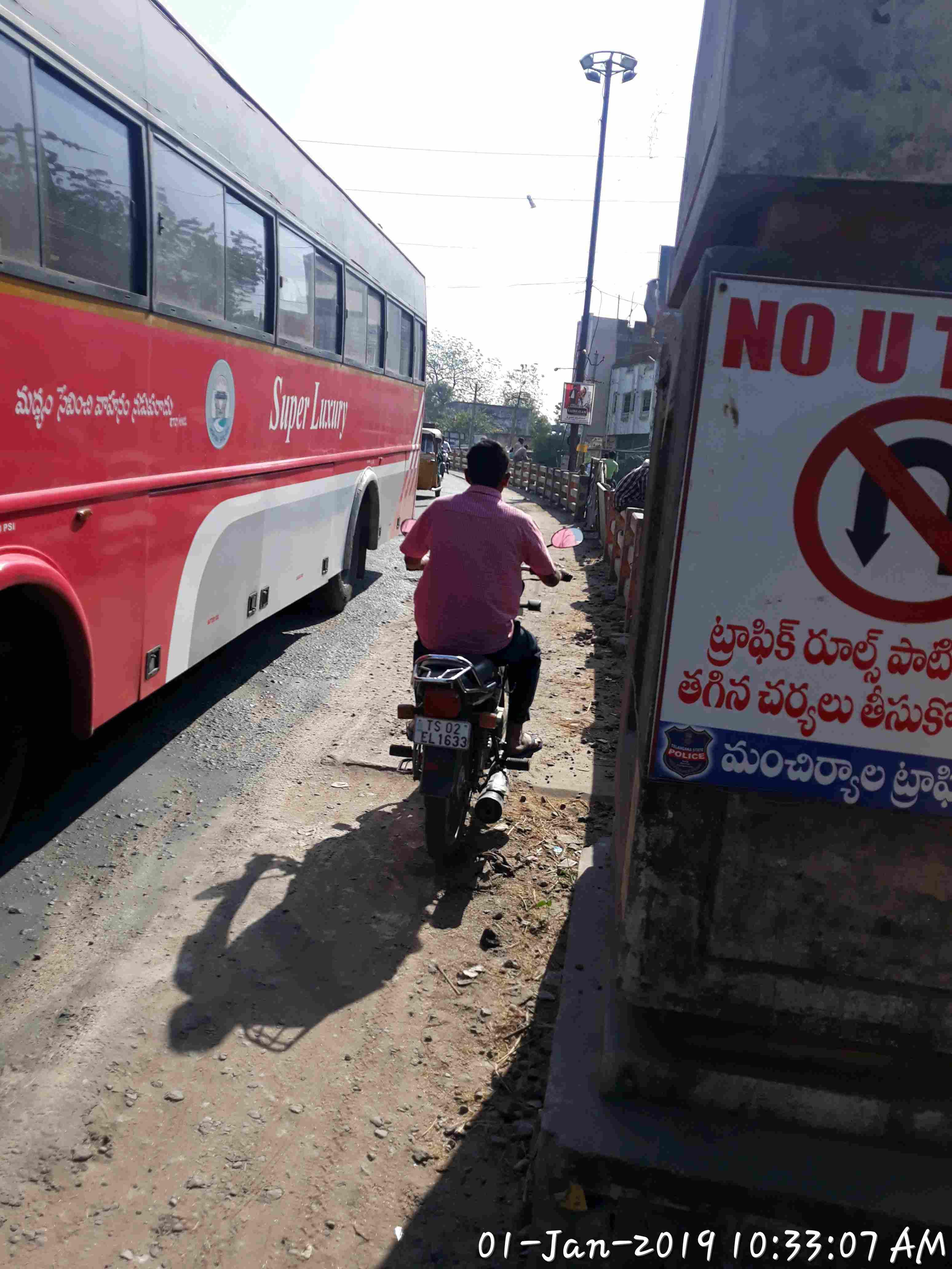plate: (409, 711, 486, 757)
